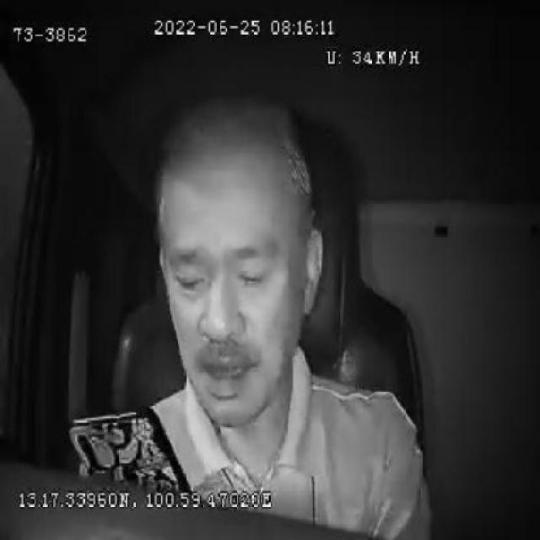phone: (69, 406, 191, 492)
